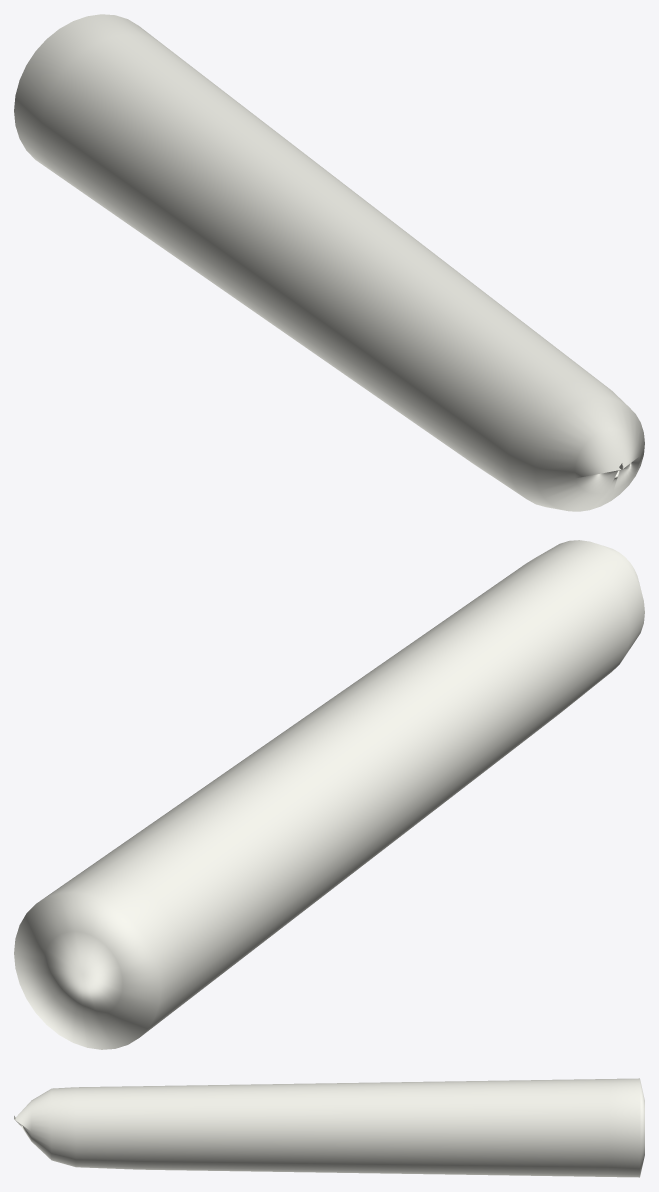
Rendered from kapur_tulis.glb.
3 views of the same model, one above another, from view 1: azimuth 30°, elevation 25°; view 2: azimuth 150°, elevation 25°; view 3: azimuth 270°, elevation 25° (orthographic). The views are drawn at different scales.
Parts seen in each view (by area): view 1: b_kapur_tulis; view 2: b_kapur_tulis; view 3: b_kapur_tulis.
Part boxes in pixels (x1,y1,x2,y2): b_kapur_tulis: [14, 14, 644, 511]; b_kapur_tulis: [14, 540, 644, 1049]; b_kapur_tulis: [14, 1078, 644, 1177].
Size of the model in its own units: 0.0124 by 0.0124 by 0.0788.
1 material, 1 textured.
